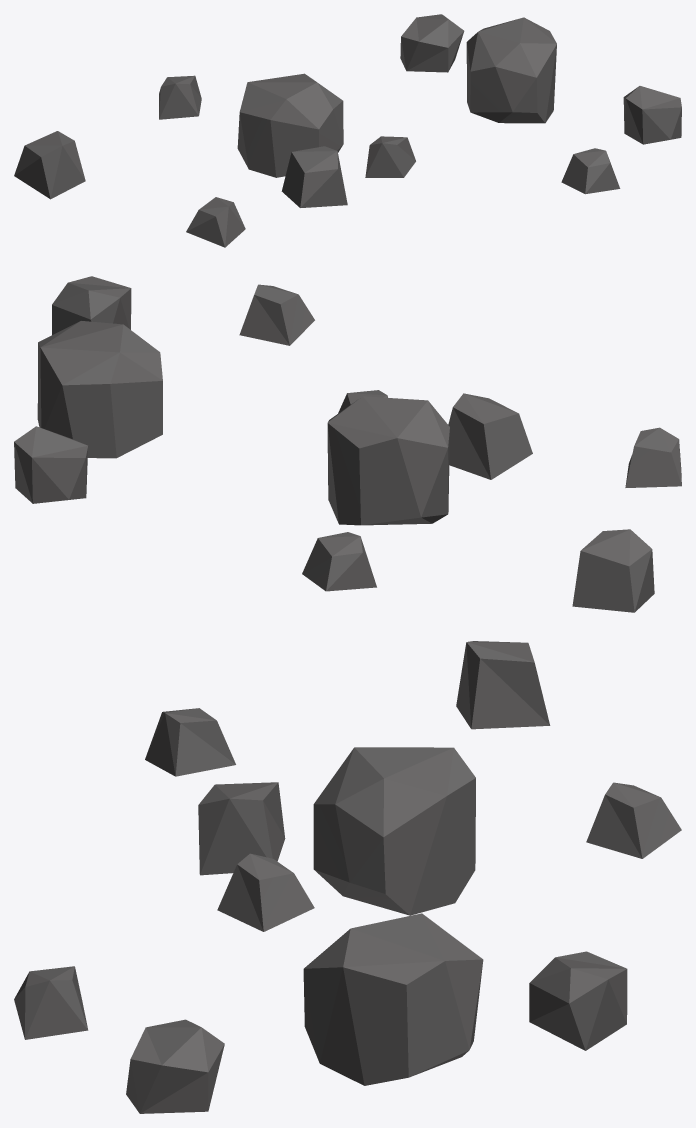
The model's file is SM_Env_Rubble_Pebbles_01.obj.
3 renders of one model, top to bottom at view 1: azimuth 30°, elevation 25°; view 2: azimuth 150°, elevation 25°; view 3: azimuth 270°, elevation 25°, orthographic. The views are drawn at different scales.
Visible parts, largest first — view 1: SM_Env_Rubble_Pebbles_01_0; view 2: SM_Env_Rubble_Pebbles_01_0; view 3: SM_Env_Rubble_Pebbles_01_0.
Part boxes in pixels (box(x1,y1,x2,y2)): SM_Env_Rubble_Pebbles_01_0: box(14, 14, 681, 247); SM_Env_Rubble_Pebbles_01_0: box(14, 276, 681, 612); SM_Env_Rubble_Pebbles_01_0: box(14, 641, 681, 1113).
Size of the model in its own units: 1.6 by 0.247 by 1.06.
1 material, 1 textured.
